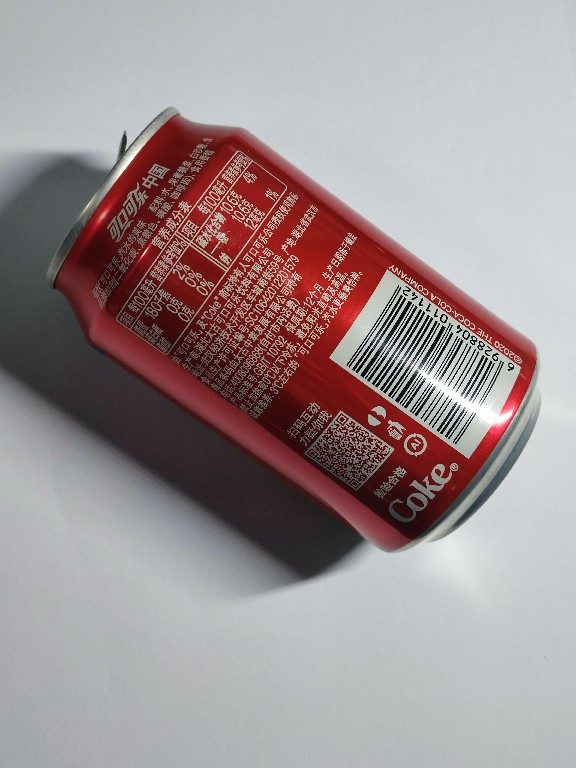can: (42, 104, 548, 558)
